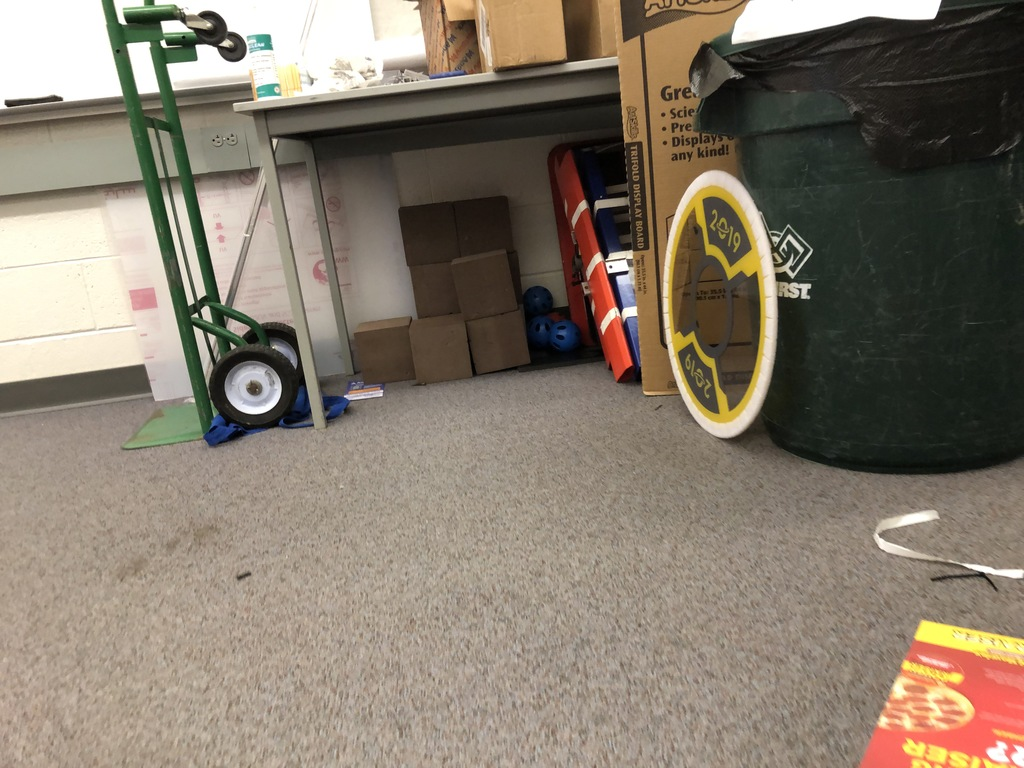hatch_panel: (662, 152, 793, 493)
